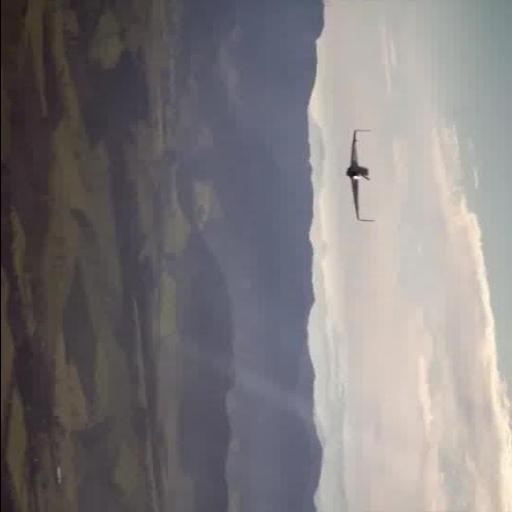uav: (340, 128, 378, 224)
